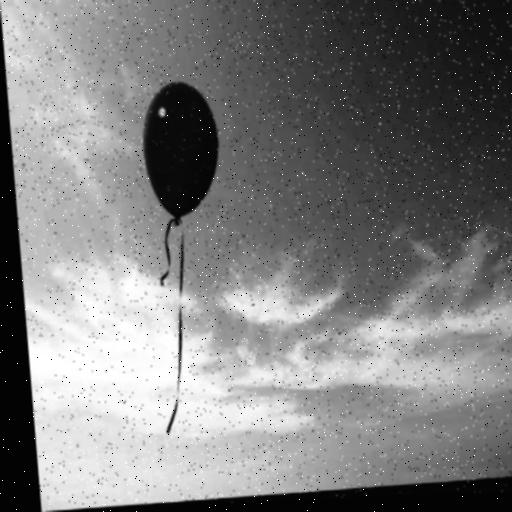balloon: (131, 70, 234, 241)
